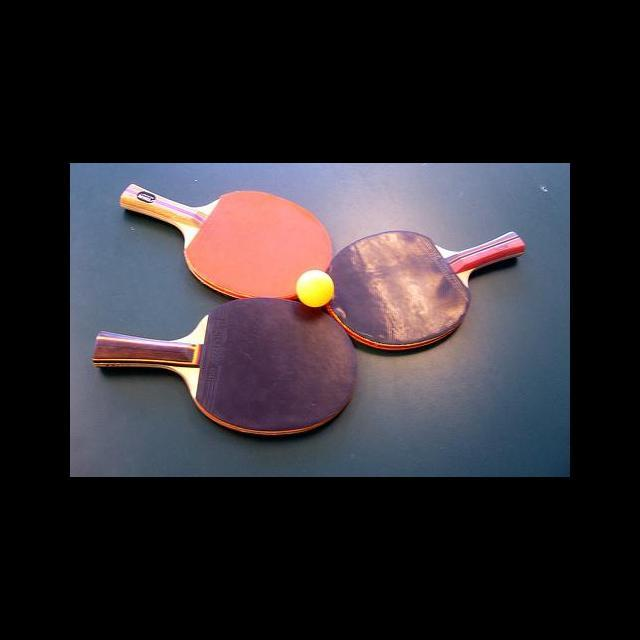ping-pong-ball: (295, 269, 336, 308)
